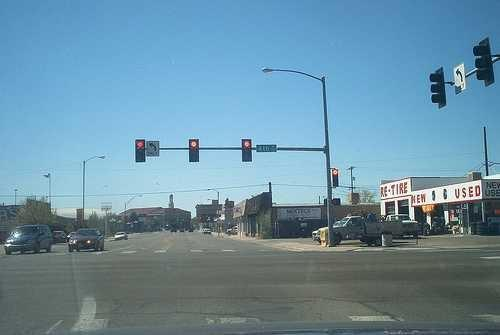red: (238, 137, 253, 165), (134, 137, 146, 163), (188, 138, 199, 163), (330, 166, 341, 191)
